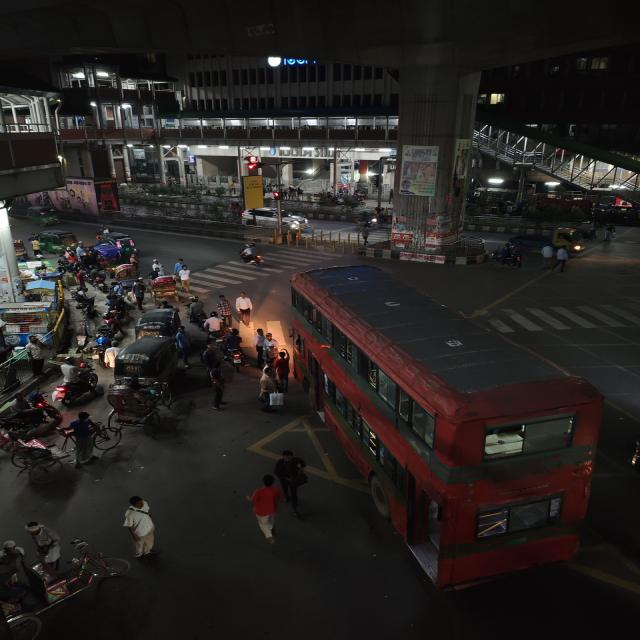bus: (299, 260, 609, 600)
car: (243, 204, 307, 232)
cng: (120, 336, 176, 378), (34, 228, 83, 256), (99, 232, 139, 257)
motorcycle: (52, 359, 99, 407), (220, 327, 247, 371), (96, 299, 127, 337), (251, 324, 279, 366), (491, 239, 527, 270), (235, 238, 268, 270), (624, 434, 640, 480)
pedestrian: (244, 473, 288, 545), (271, 448, 314, 516), (120, 494, 162, 563), (62, 411, 102, 467), (201, 340, 229, 410), (25, 517, 60, 567), (0, 540, 29, 590), (21, 336, 51, 378), (256, 368, 283, 412), (270, 347, 294, 387), (540, 242, 571, 272), (213, 292, 236, 332), (233, 291, 255, 325), (174, 258, 195, 292), (90, 330, 111, 364), (96, 339, 119, 369), (599, 223, 618, 253), (205, 310, 222, 339)
rickshaw: (106, 374, 183, 436), (0, 419, 67, 476), (132, 306, 180, 341), (147, 273, 181, 304)
